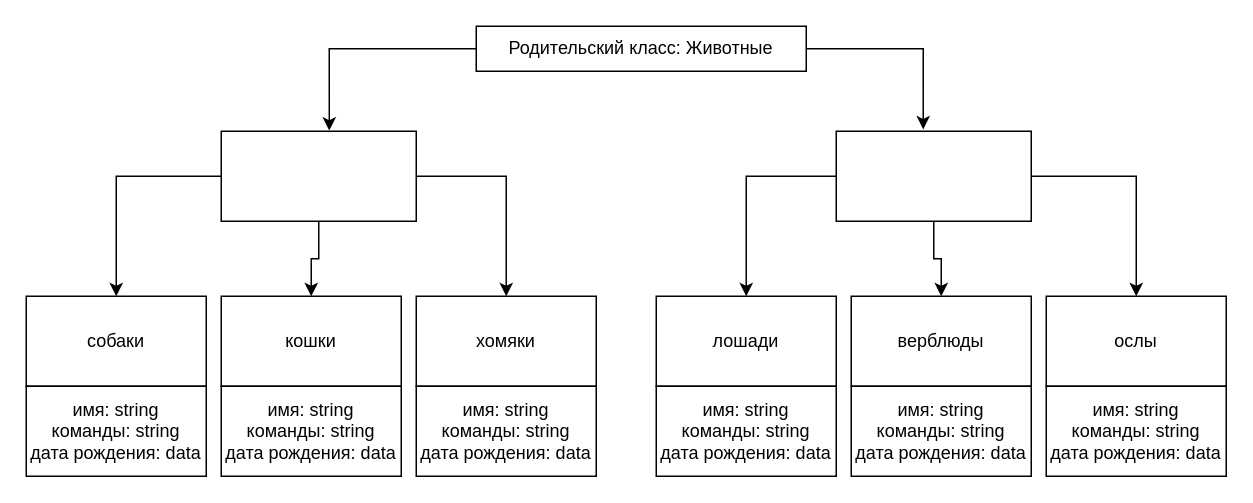
This 1253x503 diagram has some shape labels left out. The centre of each missing label's shape, as x and y in pixels:
"Вьючные животные" belongs at point 933,175.
"Домашние животные" belongs at point 318,175.
